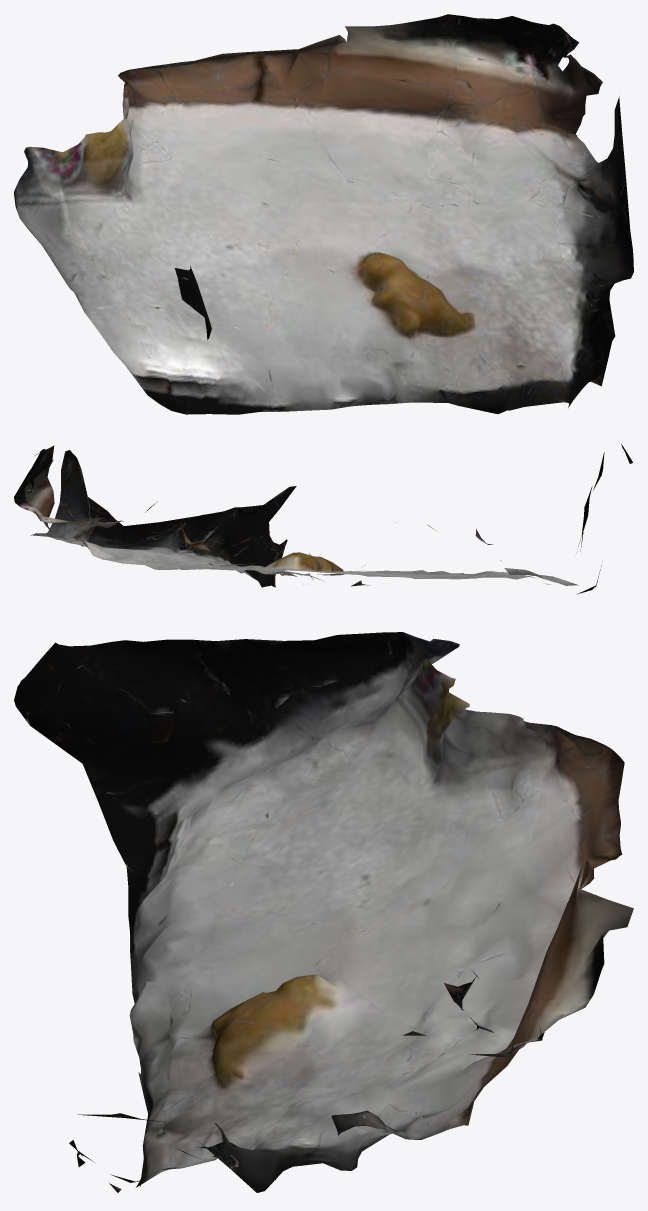
File: hall.glb
3 views of the same model, one above another, from view 1: azimuth 30°, elevation 25°; view 2: azimuth 150°, elevation 25°; view 3: azimuth 270°, elevation 25° (orthographic). The views are drawn at different scales.
Bounding box in the file's own units: 0.9542 × 0.3925 × 0.7095.
1 material, 1 textured.
